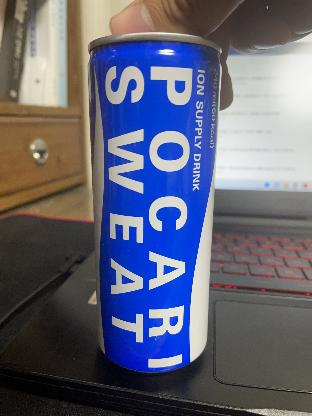Can: (92, 34, 224, 372)
